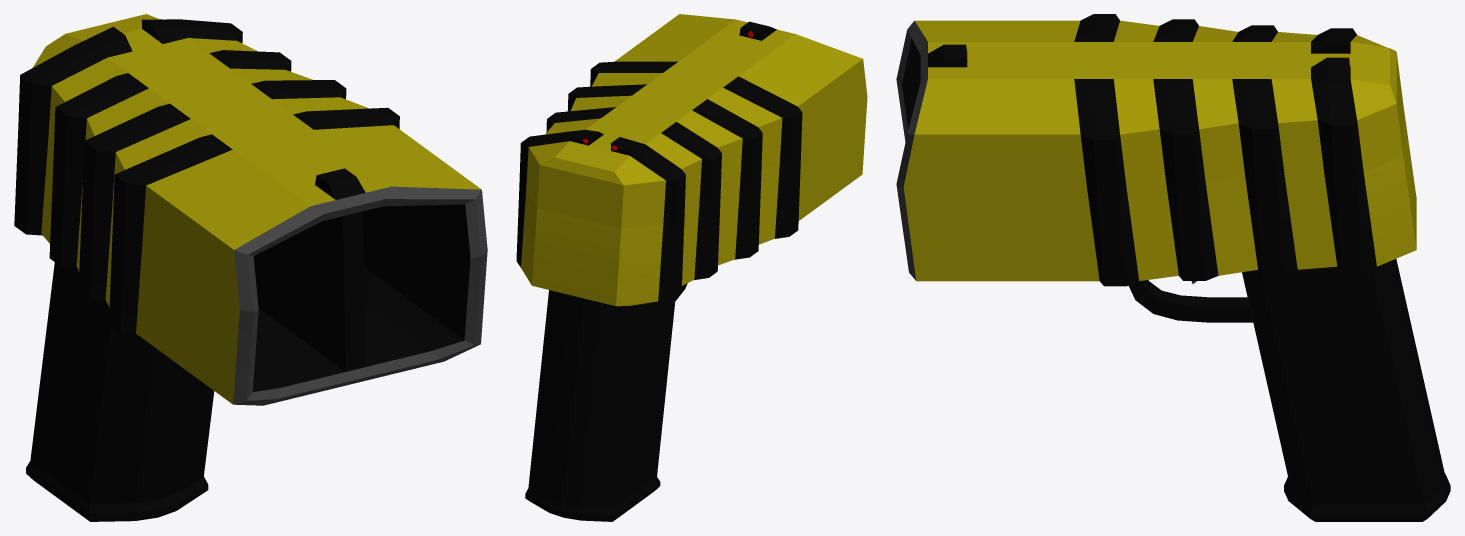
File: Taser.glb
3 renders of one model, left to right at view 1: azimuth 30°, elevation 25°; view 2: azimuth 150°, elevation 25°; view 3: azimuth 270°, elevation 25°, orthographic. The views are drawn at different scales.
Visible parts, largest first — view 1: Taser-col; view 2: Taser-col; view 3: Taser-col.
Part boxes in pixels (<box>): Taser-col: <box>14,14,487,521</box>; Taser-col: <box>516,14,867,521</box>; Taser-col: <box>896,14,1450,521</box>.
Bounding box in the file's own units: 0.3443 × 0.5677 × 0.6401.
1 material, 1 textured.
